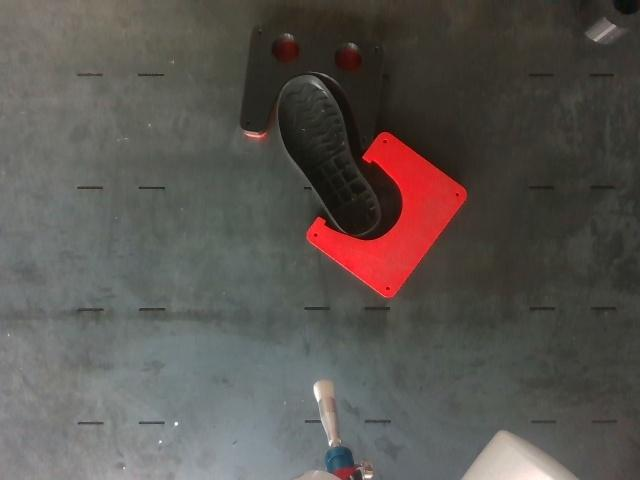shoes: (278, 76, 380, 235)
